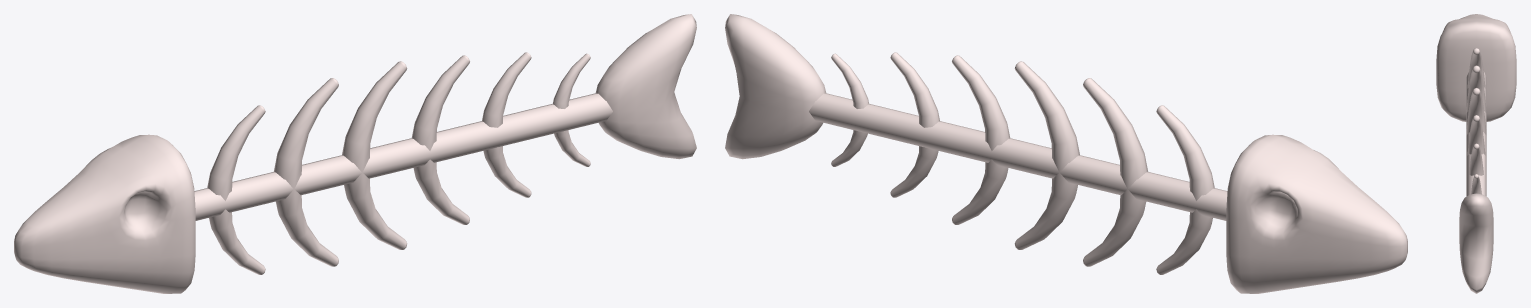
File: Skeleton_Fish_3.fbx
3 views of the same model, side by side, from view 1: azimuth 30°, elevation 25°; view 2: azimuth 150°, elevation 25°; view 3: azimuth 270°, elevation 25° (orthographic). The views are drawn at different scales.
Parts seen in each view (by area): view 1: Skeleton_Fish_3; view 2: Skeleton_Fish_3; view 3: Skeleton_Fish_3.
Boxes of the visible parts, box(x1,y1,x2,y2) form: Skeleton_Fish_3: box(14, 14, 696, 293); Skeleton_Fish_3: box(725, 14, 1407, 293); Skeleton_Fish_3: box(1436, 14, 1516, 293).
Bounding box in the file's own units: 74.92 × 19.78 × 11.38.
